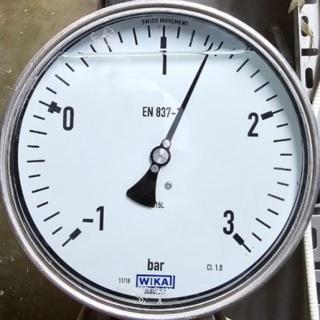gauge: (0, 0, 320, 320), (57, 200, 111, 256), (218, 217, 252, 253), (149, 145, 171, 167), (207, 38, 217, 51)
